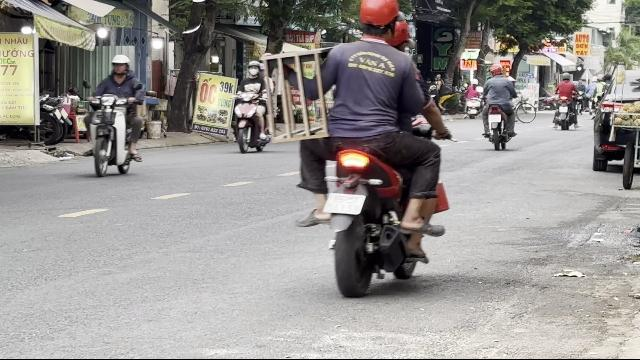helmet: (356, 0, 402, 44), (387, 14, 409, 50), (109, 54, 129, 76), (245, 60, 259, 76)
licenseplate: (324, 193, 364, 213)
motorcyclist: (290, 0, 456, 298), (82, 53, 146, 177), (229, 59, 273, 153)
